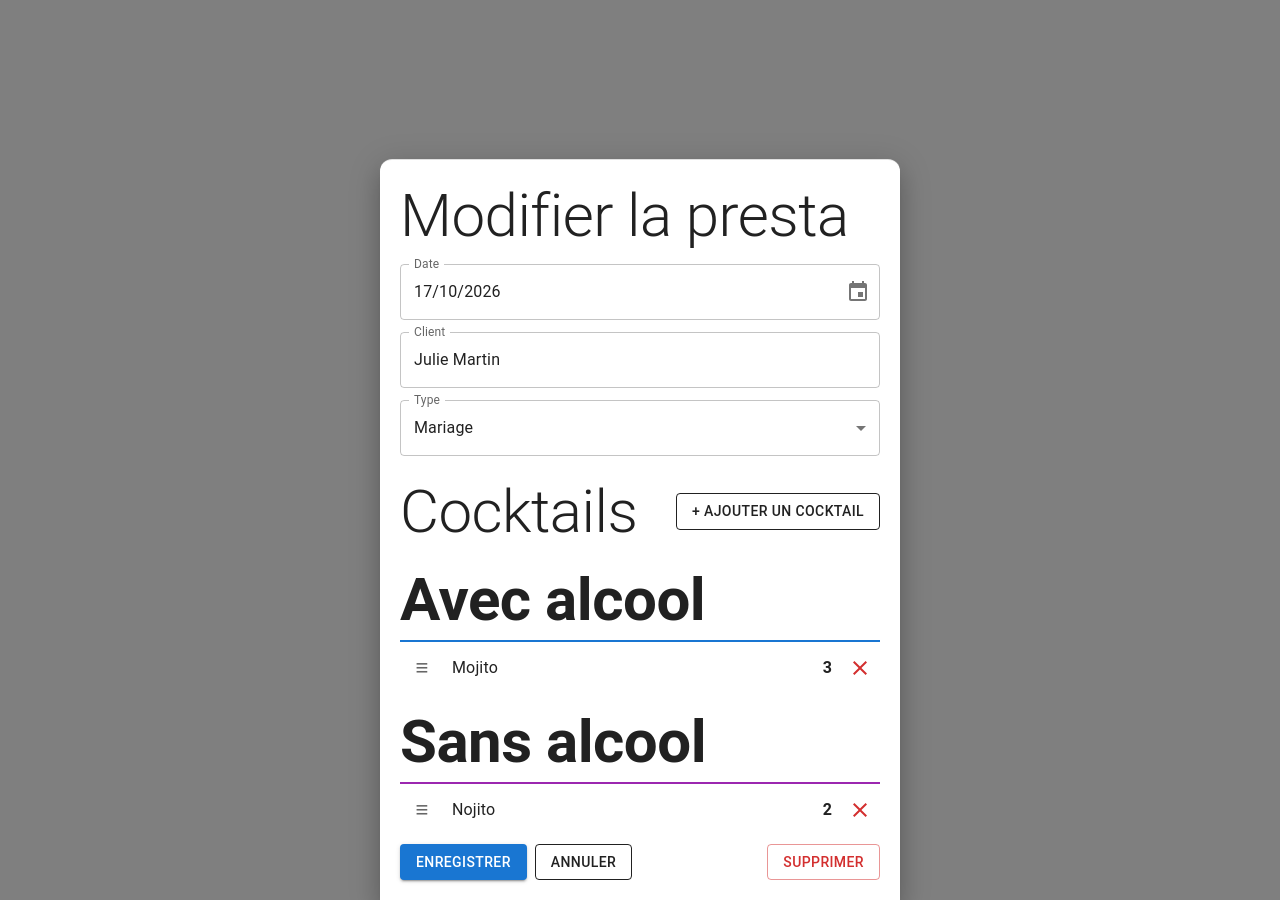
it: EcranModifierPresta › nomme la version sans alcool dans le dialogue de retrait
Click the button named "Retirer" at point(860, 810), box [840, 790, 880, 830]
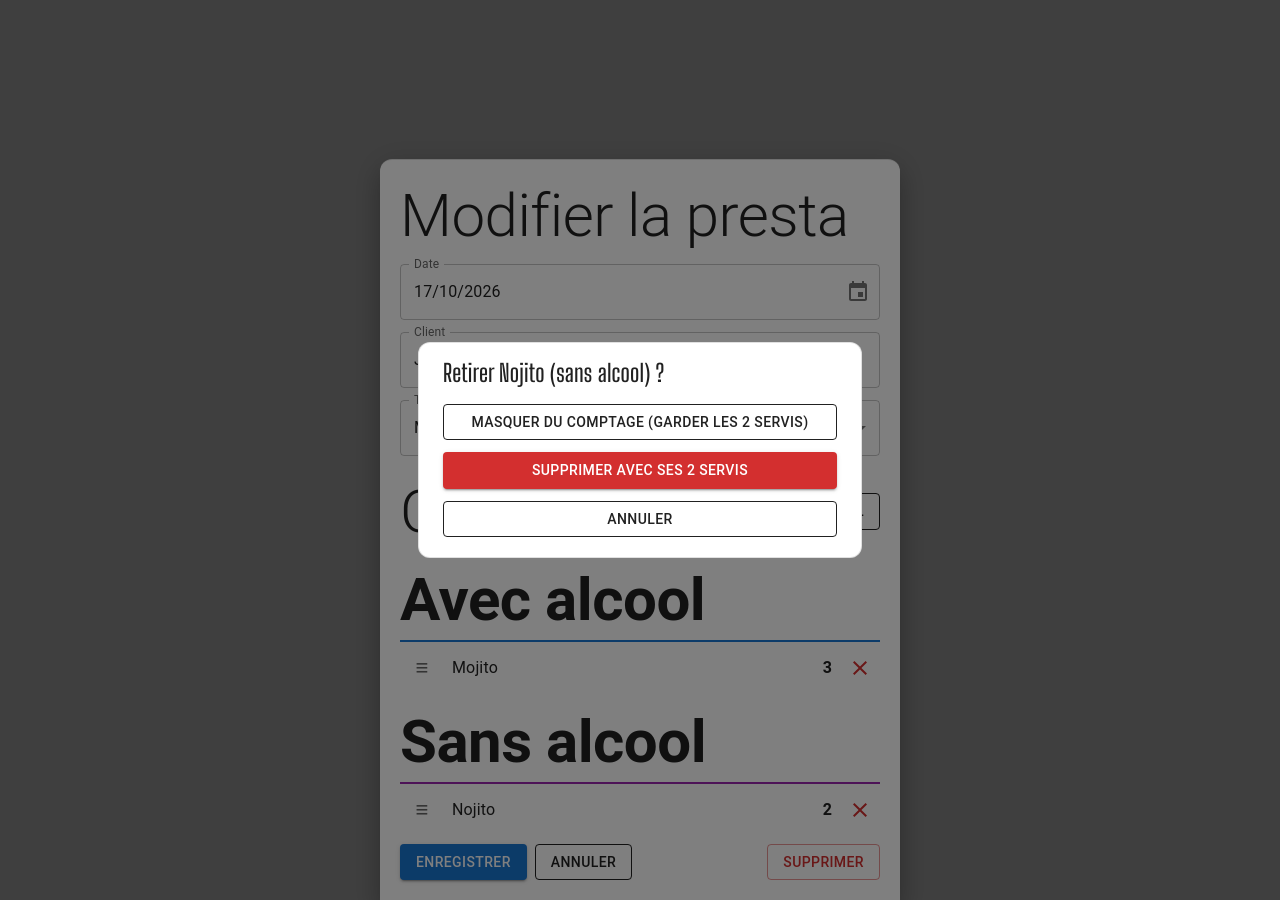
Expected: the button "Masquer du comptage (garder les 2 servis)" is shown, [443, 404, 837, 440]
Expected: the button "Supprimer avec ses 2 servis" is shown, [443, 452, 837, 489]
